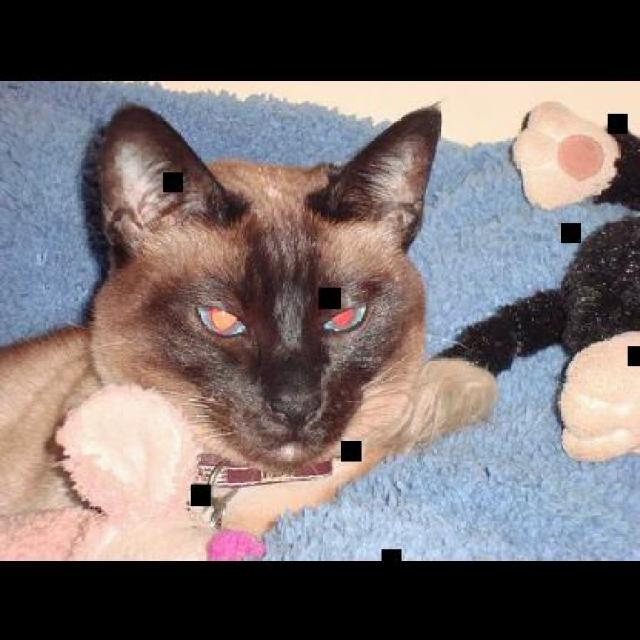unauthorized: (0, 98, 457, 530), (431, 102, 638, 463)
